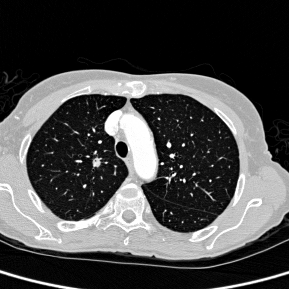nodule: (92, 158, 100, 166)
